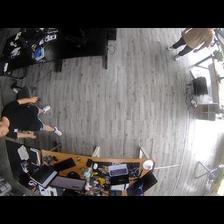normal: (1, 97, 62, 139), (172, 28, 218, 60)
